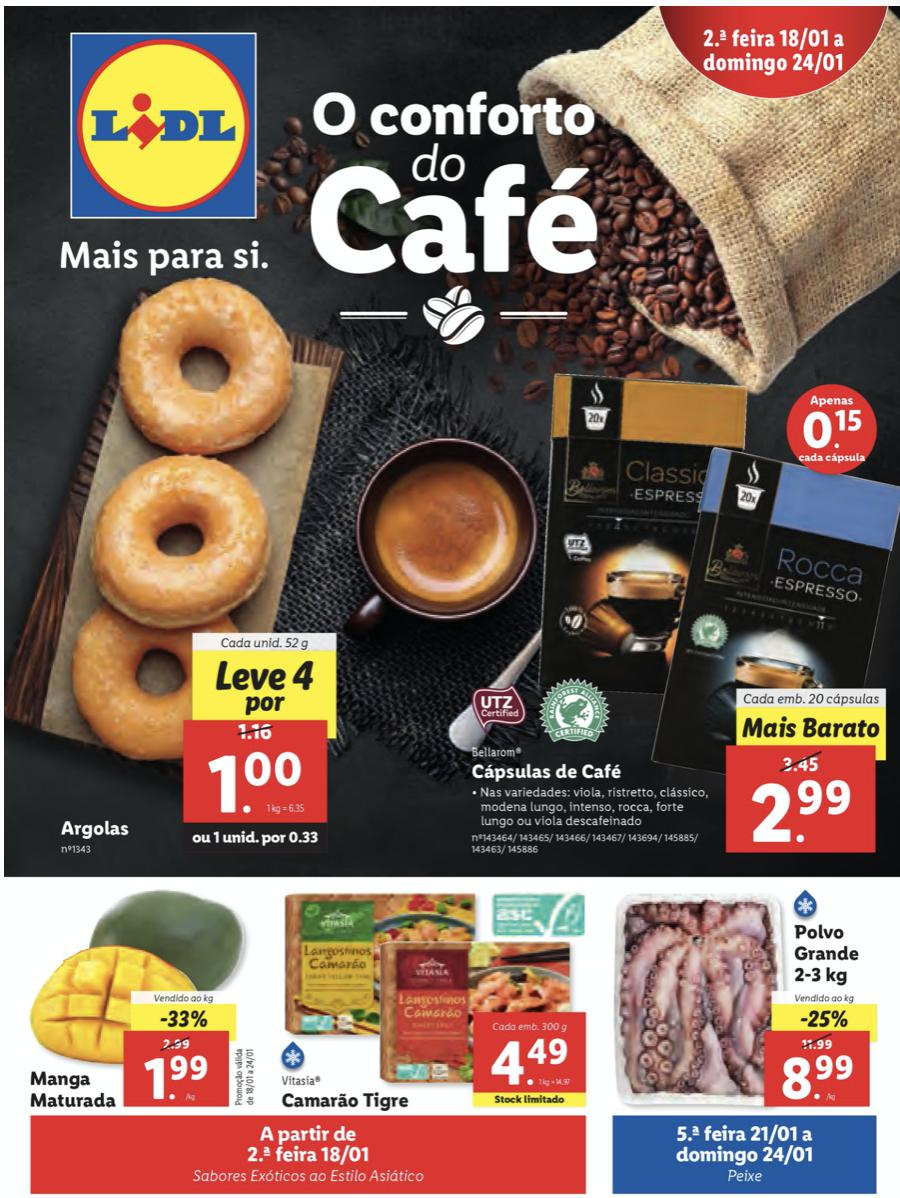name: (781, 912, 864, 987), (24, 1069, 121, 1112), (472, 760, 625, 784), (279, 1091, 413, 1114), (56, 817, 135, 842)
price: (742, 774, 860, 850), (208, 748, 305, 817), (485, 1030, 570, 1089), (776, 1050, 864, 1102), (142, 1048, 216, 1102)
product: (461, 359, 888, 869), (15, 272, 333, 853), (263, 878, 608, 1111), (608, 883, 893, 1111), (15, 878, 263, 1117)
promotion: (158, 1006, 208, 1032), (799, 1008, 854, 1029)
